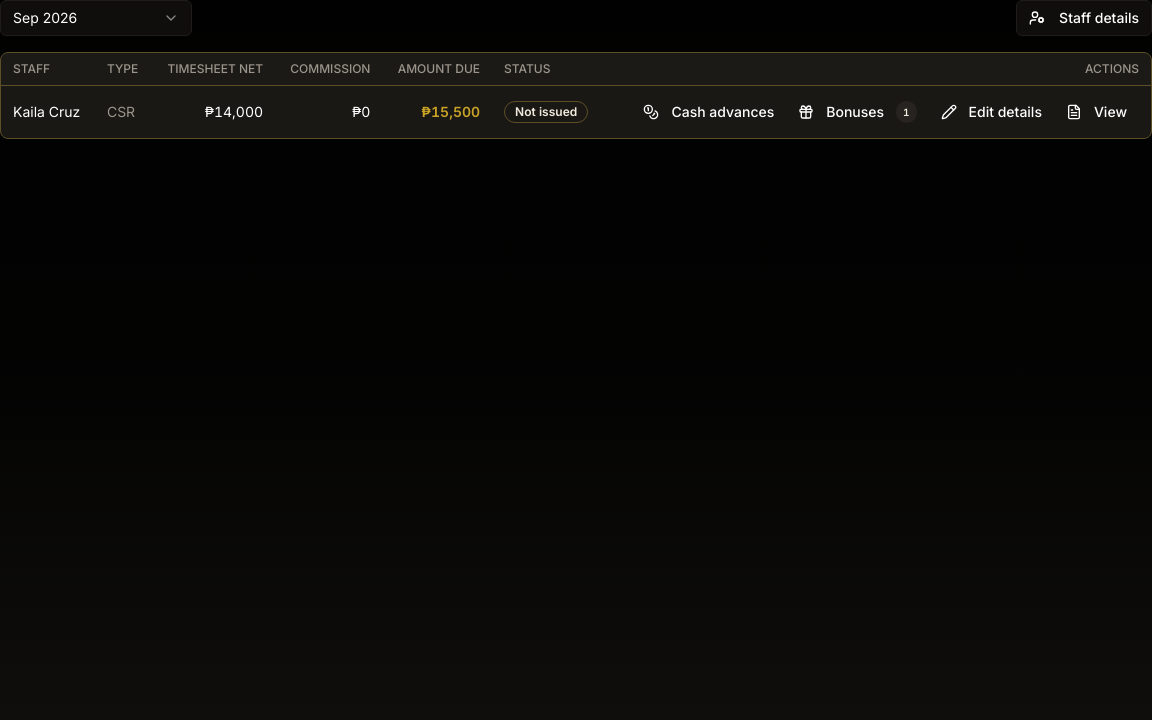
Test: Payslips tab — bonuses › the draft view lists the bonus, adds it to total earnings and titles the section
What coordinates should you click on to do the following:
click the button "View"
I would click on:
 (1096, 112)
Its box is [1054, 94, 1139, 130].
(page scrolled)
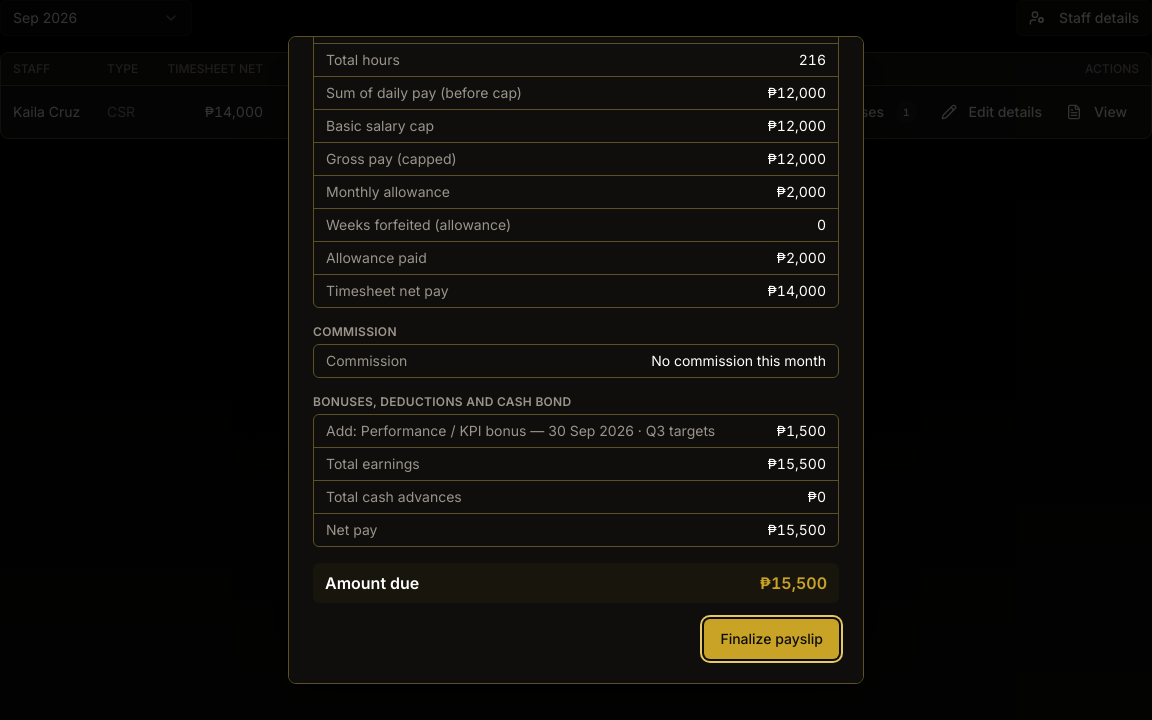
Expected: the text "Add: Performance / KPI bonus — 30 Sep 2026 · Q3 targets" is shown, [326, 421, 715, 441]
Expected: the text "Bonuses, deductions and cash bond" is shown, [313, 394, 572, 409]
Expected: the text "₱15,500" in the row of "Total earnings" is shown, [768, 455, 826, 472]
